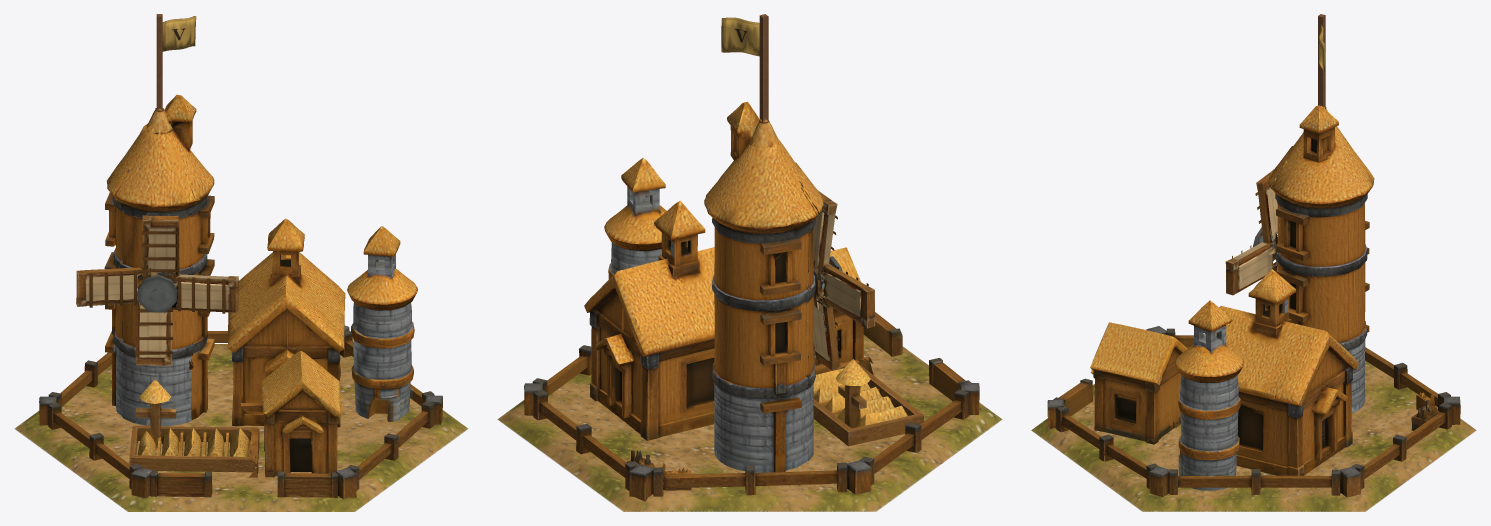
The model's file is farm-5.glb.
3 renders of one model, left to right at view 1: azimuth 30°, elevation 25°; view 2: azimuth 150°, elevation 25°; view 3: azimuth 270°, elevation 25°, orthographic. The views are drawn at different scales.
Parts seen in each view (by area): view 1: architecture, ground, rotor, tier-banner; view 2: architecture, ground, rotor, tier-banner; view 3: architecture, ground, rotor.
Part boxes in pixels (x1,y1,x2,y2): architecture: (39,14,442,499); ground: (14,344,468,511); rotor: (76,215,238,365); tier-banner: (162,16,196,51); architecture: (524,14,979,501); ground: (497,335,1002,511); rotor: (808,190,875,370); tier-banner: (721,17,759,56); architecture: (1047,14,1460,497); ground: (1031,347,1476,511); rotor: (1225,169,1277,308).
Bounding box in the file's own units: 1.59 × 1.79 × 1.84.
3 materials, 3 textured.
